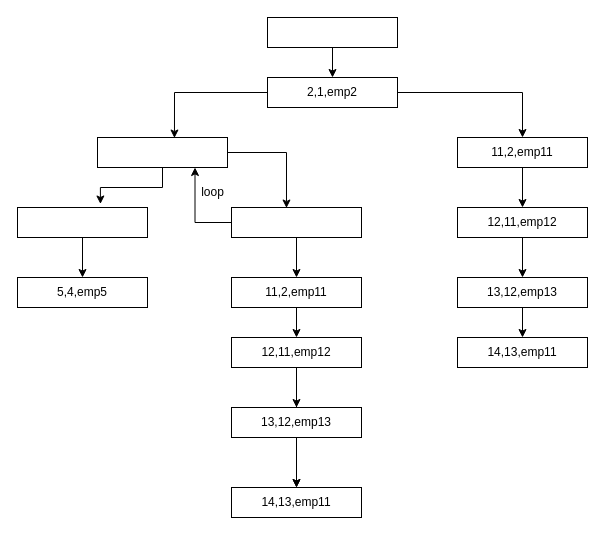
This 605x535 diagram has some shape labels left out. The centre of each missing label's shape, as x and y in pixels:
1,NULL,boss: the point at 332,32
2,3,emp15: the point at 296,222
3,2,emp3: the point at 162,152
4,3,emp4: the point at 82,222
